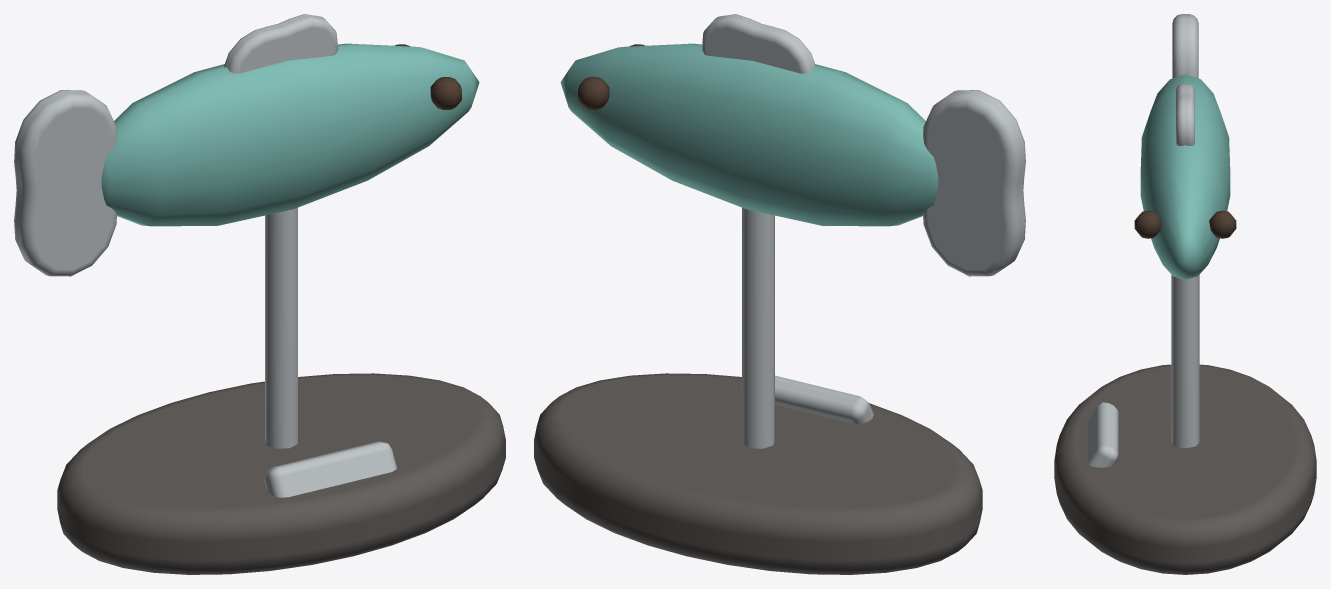
File: deep_sea_fish_model.glb
The picture shows the model from 3 angles, left to right: view 1: azimuth 30°, elevation 25°; view 2: azimuth 150°, elevation 25°; view 3: azimuth 270°, elevation 25°; orthographic projection. The views are drawn at different scales.
Parts seen in each view (by area): view 1: deep_sea_fish_model_mesh; view 2: deep_sea_fish_model_mesh; view 3: deep_sea_fish_model_mesh.
Boxes of the visible parts, box(x1,y1,x2,y2) form: deep_sea_fish_model_mesh: box(14, 14, 505, 574); deep_sea_fish_model_mesh: box(534, 14, 1025, 574); deep_sea_fish_model_mesh: box(1054, 14, 1316, 574).
Bounding box in the file's own units: 0.3833 × 0.3743 × 0.22.
